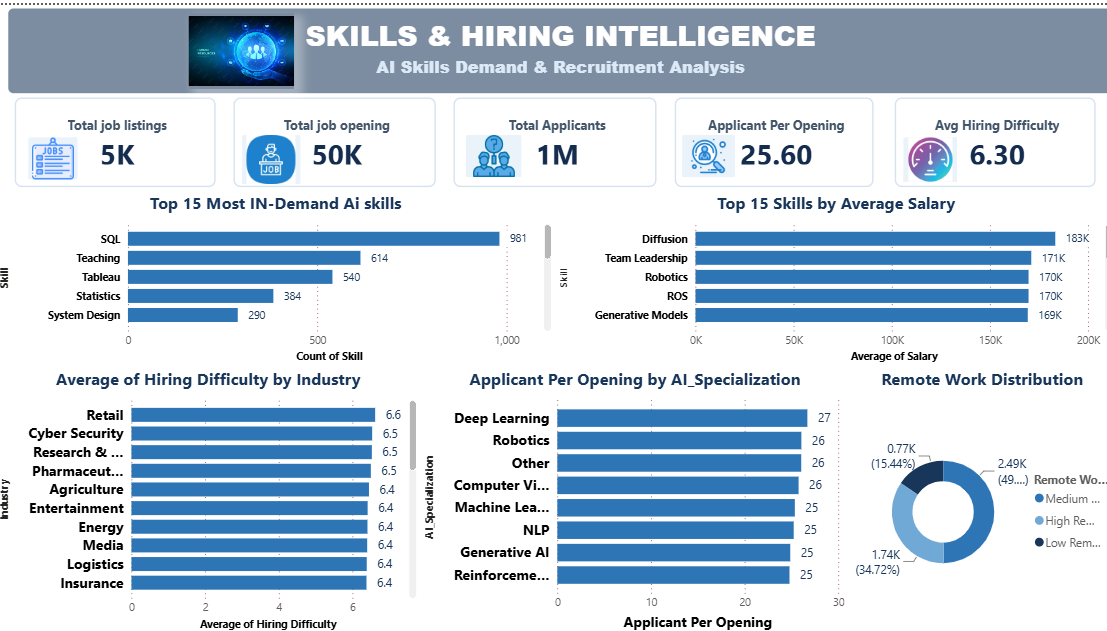

Layout of this report page (visuals, bound fields, positions):
{"tool":"powerbi","page":{"name":"Skill & Hiring Intelligence","canvas":[1280,720],"ordinal":2},"visuals":[{"type":"textbox","box":[9.8,0,1270.5,105.2],"z":0},{"type":"cardVisual","fields":{"Data":["AI_Jobs.Total job listings"]},"box":[22,105.2,229.9,102.7],"z":1000},{"type":"cardVisual","fields":{"Data":["AI_Jobs.Total job openings"]},"box":[271.5,105.2,231.1,102.7],"z":2000},{"type":"cardVisual","fields":{"Data":["AI_Jobs.Total Applicants"]},"box":[522.1,105.2,232.3,102.7],"z":3000},{"type":"cardVisual","fields":{"Data":["AI_Jobs.Applicants Per Opening"]},"box":[775.3,105.2,227.4,102.7],"z":4000},{"type":"cardVisual","fields":{"Data":["AI_Jobs.Average Hiring Difficulty"]},"box":[1027.2,105.2,229.9,102.7],"z":5000},{"type":"clusteredBarChart","title":"Top 15 Most IN-Demand Ai skills               ","fields":{"Category":["Job_Skills.Skill"],"Y":["CountNonNull(Job_Skills.Skill)"]},"box":[0,212.8,639.5,201.8],"z":6000},{"type":"clusteredBarChart","title":"Top 15 Skills by Average Salary","fields":{"Category":["Job_Skills.Skill"],"Y":["Avg(AI_Jobs.Salary_USD)"]},"box":[639.5,212.8,640.8,201.8],"z":7000},{"type":"clusteredBarChart","fields":{"Category":["AI_Jobs.AI_Specialization"],"Y":["AI_Jobs.Applicants Per Opening"]},"box":[485.5,414.5,489.1,305.7],"z":8000},{"type":"clusteredBarChart","title":"Average of Hiring Difficulty by Industry","fields":{"Category":["AI_Jobs.Industry"],"Y":["Avg(AI_Jobs.Hiring_Difficulty_1_10)"]},"box":[0,414.5,485.5,305.7],"z":9000},{"type":"donutChart","title":" Remote Work Distribution","fields":{"Category":["AI_Jobs.Remote Work Category"],"Y":["CountNonNull(AI_Jobs.Job_ID)"]},"box":[974.6,414.5,305.7,305.7],"z":10000},{"type":"image","box":[220.1,8.6,121.1,88],"z":11000},{"type":"image","box":[36.7,151.6,56.3,47.7],"z":12000},{"type":"image","box":[281.3,148,66,56.3],"z":13000},{"type":"image","box":[536.8,148,63.6,47.7],"z":14000},{"type":"image","box":[783.8,149.2,59.9,47.7],"z":15000},{"type":"image","box":[1037,151.6,61.1,50.1],"z":16000}]}

Visuals, with their boxes in screenshot pixels (x1, y1, x2, y2), scaled from the page's 1280x720 canvas onto the 1107x631 screenshot:
textbox: 8,0,1106,92
cardVisual - AI_Jobs.Total job listings: 19,92,218,182
cardVisual - AI_Jobs.Total job openings: 235,92,435,182
cardVisual - AI_Jobs.Total Applicants: 452,92,652,182
cardVisual - AI_Jobs.Applicants Per Opening: 671,92,867,182
cardVisual - AI_Jobs.Average Hiring Difficulty: 888,92,1087,182
"Top 15 Most IN-Demand Ai skills               " clusteredBarChart: 0,186,553,363
"Top 15 Skills by Average Salary" clusteredBarChart: 553,186,1106,363
clusteredBarChart - AI_Jobs.AI_Specialization x AI_Jobs.Applicants Per Opening: 420,363,843,630
"Average of Hiring Difficulty by Industry" clusteredBarChart: 0,363,420,630
" Remote Work Distribution" donutChart: 843,363,1106,630
image: 190,8,295,85
image: 32,133,80,175
image: 243,130,300,179
image: 464,130,519,172
image: 678,131,730,173
image: 897,133,950,177
